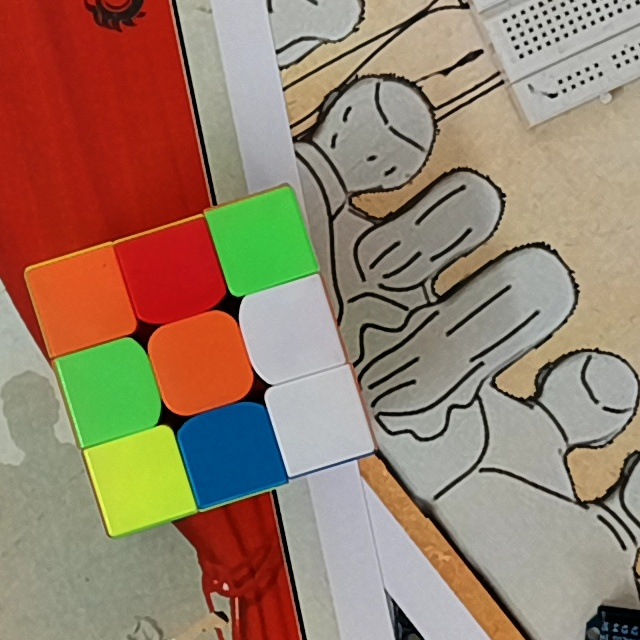tile: (160, 327, 240, 397), (256, 292, 325, 366), (42, 267, 116, 335), (134, 239, 208, 306), (283, 386, 355, 454), (225, 208, 297, 274), (107, 443, 177, 510), (192, 421, 263, 487), (76, 356, 145, 423)
